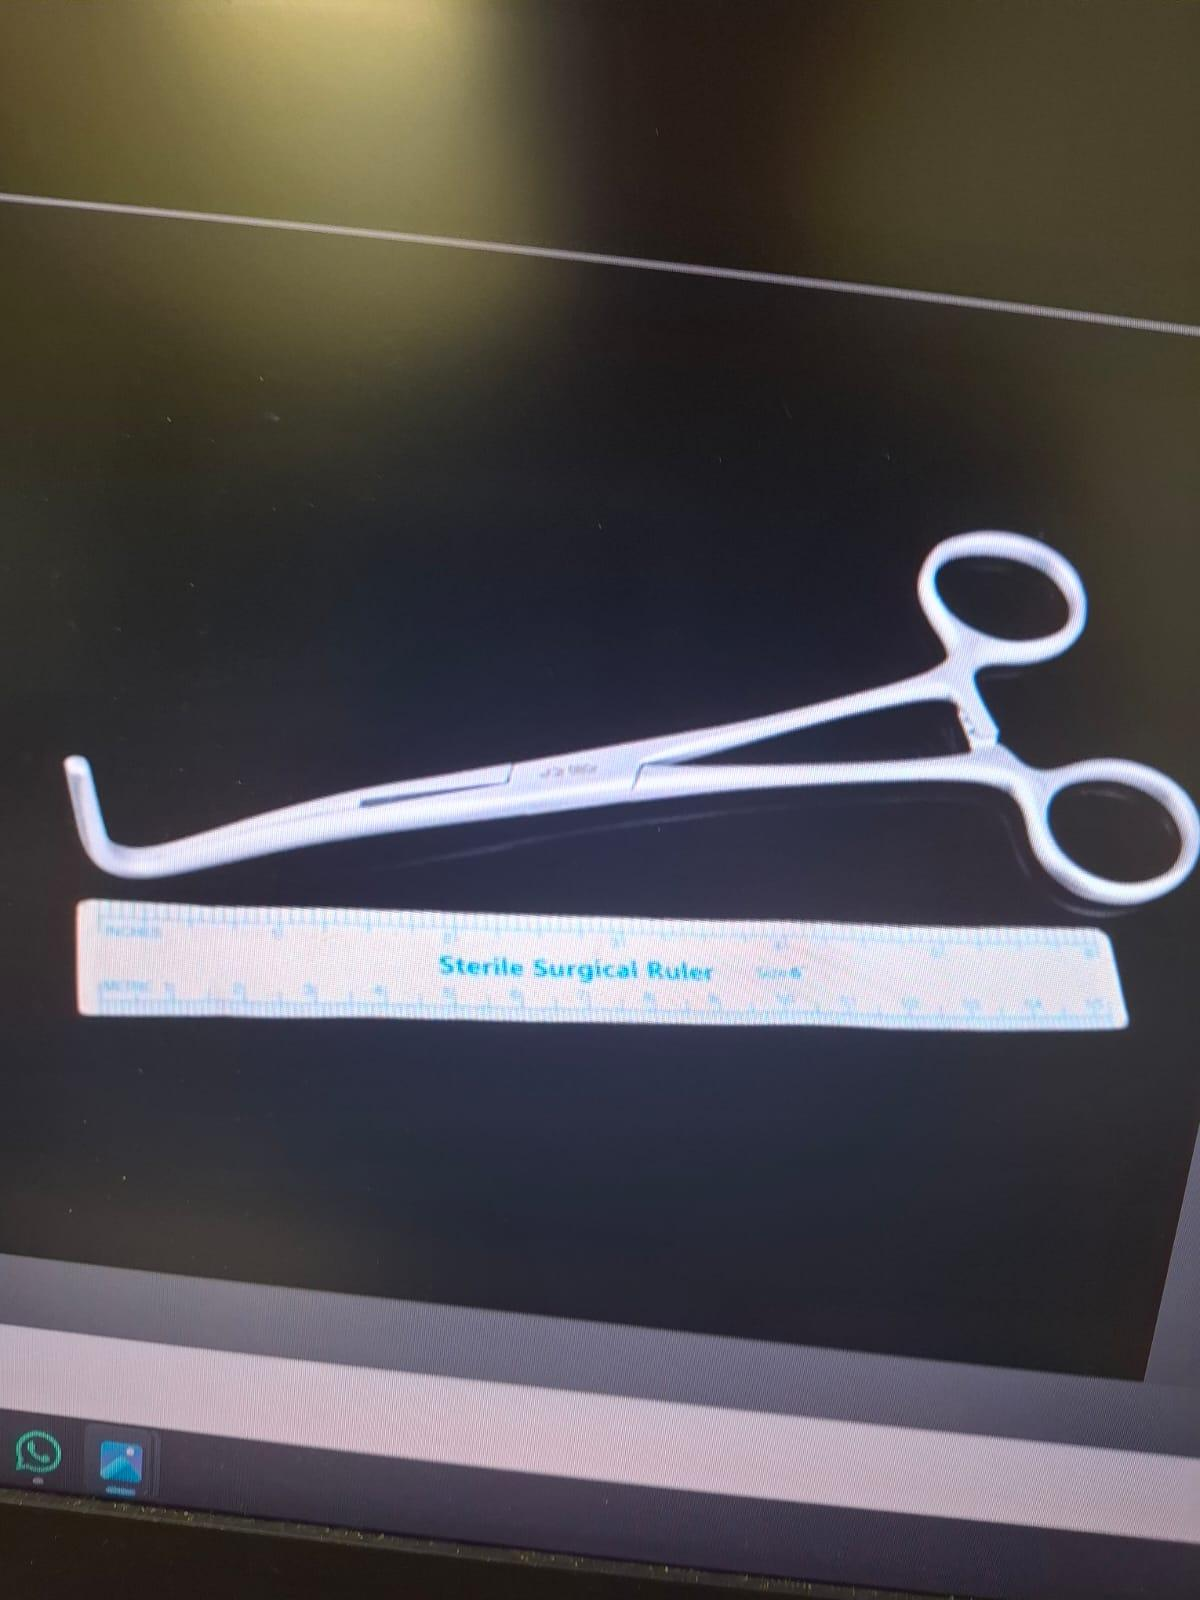Rectangle Cholecystectomy Forceps: (65, 505, 1200, 943)
